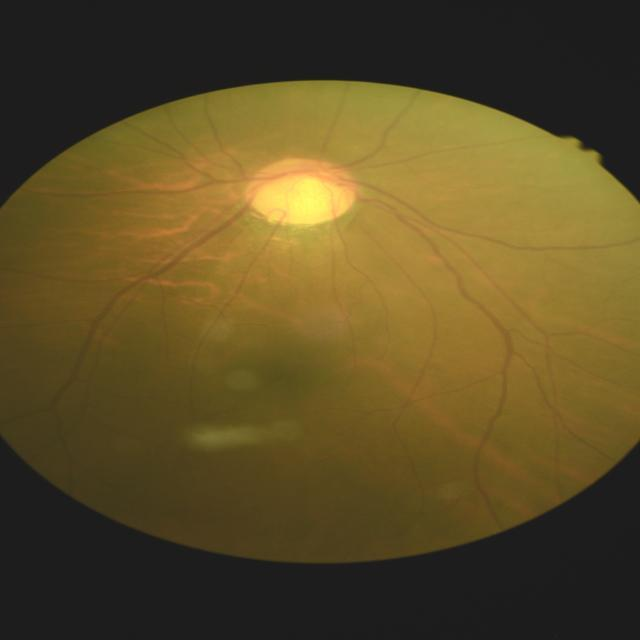cup: (260, 164, 342, 212)
disk: (243, 156, 359, 224)
